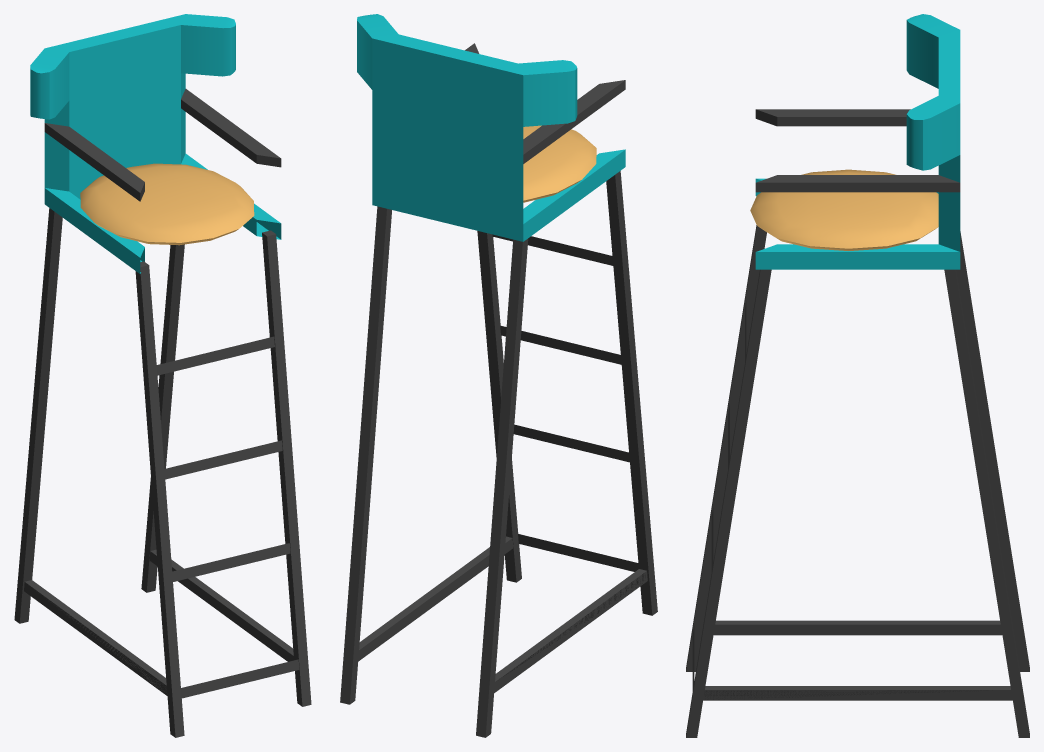
The model's file is Dog_RefereeChair.fbx.
The picture shows the model from 3 angles, left to right: view 1: azimuth 30°, elevation 25°; view 2: azimuth 150°, elevation 25°; view 3: azimuth 270°, elevation 25°; orthographic projection. The views are drawn at different scales.
Parts seen in each view (by area): view 1: Cube.011; view 2: Cube.011; view 3: Cube.011.
Boxes of the visible parts, <box> form: Cube.011: <box>14,14,311,737</box>; Cube.011: <box>340,14,657,737</box>; Cube.011: <box>686,14,1029,737</box>.
Size of the model in its own units: 10560 by 29524 by 14461.
